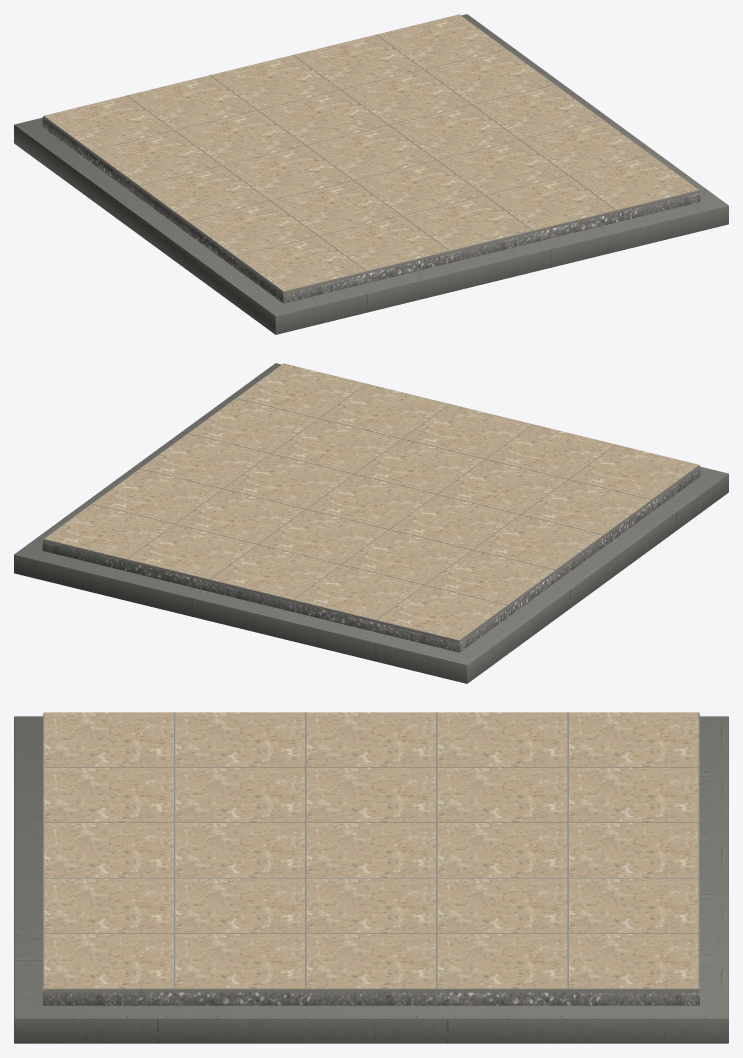
The model's file is KIT-PIS-02_lod1.glb.
The picture shows the model from 3 angles, top to bottom: view 1: azimuth 30°, elevation 25°; view 2: azimuth 150°, elevation 25°; view 3: azimuth 270°, elevation 25°; orthographic projection. The views are drawn at different scales.
Visible parts, largest first — view 1: KIT-PIS-02_laje, KIT-PIS-02_contrapiso, KIT-PIS-02_rejunte, KIT-PIS-02_p15, KIT-PIS-02_p22, KIT-PIS-02_p2, KIT-PIS-02_p3, KIT-PIS-02_p24, KIT-PIS-02_p0, KIT-PIS-02_p1, KIT-PIS-02_p6, KIT-PIS-02_p9 (+17 smaller); view 2: KIT-PIS-02_laje, KIT-PIS-02_contrapiso, KIT-PIS-02_rejunte, KIT-PIS-02_p20, KIT-PIS-02_p2, KIT-PIS-02_p3, KIT-PIS-02_p5, KIT-PIS-02_p8, KIT-PIS-02_p11, KIT-PIS-02_p22, KIT-PIS-02_p0, KIT-PIS-02_p1 (+17 smaller); view 3: KIT-PIS-02_laje, KIT-PIS-02_contrapiso, KIT-PIS-02_p3, KIT-PIS-02_p8, KIT-PIS-02_p18, KIT-PIS-02_p0, KIT-PIS-02_p1, KIT-PIS-02_p5, KIT-PIS-02_p6, KIT-PIS-02_p15, KIT-PIS-02_p16, KIT-PIS-02_p2 (+17 smaller).
Part boxes in pixels (<box>): KIT-PIS-02_laje: <box>14,14,728,334</box>; KIT-PIS-02_contrapiso: <box>42,118,700,303</box>; KIT-PIS-02_rejunte: <box>43,14,699,292</box>; KIT-PIS-02_p15: <box>486,175,615,230</box>; KIT-PIS-02_p22: <box>473,85,602,139</box>; KIT-PIS-02_p2: <box>140,166,269,220</box>; KIT-PIS-02_p3: <box>92,131,221,185</box>; KIT-PIS-02_p24: <box>377,14,506,69</box>; KIT-PIS-02_p0: <box>236,236,365,291</box>; KIT-PIS-02_p1: <box>188,201,317,256</box>; KIT-PIS-02_p6: <box>271,181,400,235</box>; KIT-PIS-02_p9: <box>127,75,256,130</box>; KIT-PIS-02_laje: <box>14,363,728,683</box>; KIT-PIS-02_contrapiso: <box>42,467,700,652</box>; KIT-PIS-02_rejunte: <box>43,363,699,641</box>; KIT-PIS-02_p20: <box>236,363,365,418</box>; KIT-PIS-02_p2: <box>473,515,602,569</box>; KIT-PIS-02_p3: <box>425,550,554,605</box>; KIT-PIS-02_p5: <box>486,424,615,479</box>; KIT-PIS-02_p8: <box>342,530,471,584</box>; KIT-PIS-02_p11: <box>355,439,484,493</box>; KIT-PIS-02_p22: <box>140,434,269,488</box>; KIT-PIS-02_p0: <box>569,445,698,499</box>; KIT-PIS-02_p1: <box>521,480,650,534</box>; KIT-PIS-02_laje: <box>14,716,728,1043</box>; KIT-PIS-02_contrapiso: <box>43,992,699,1005</box>; KIT-PIS-02_p3: <box>437,712,567,767</box>; KIT-PIS-02_p8: <box>437,767,567,822</box>; KIT-PIS-02_p18: <box>437,878,567,933</box>; KIT-PIS-02_p0: <box>44,712,173,767</box>; KIT-PIS-02_p1: <box>175,712,304,767</box>; KIT-PIS-02_p5: <box>44,767,173,822</box>; KIT-PIS-02_p6: <box>175,767,304,822</box>; KIT-PIS-02_p15: <box>44,878,173,933</box>; KIT-PIS-02_p16: <box>175,878,304,933</box>; KIT-PIS-02_p2: <box>306,712,435,767</box>.
Bounding box in the file's own units: 2.47 × 0.1625 × 2.47.
Materials: 5 (5 with a texture image).
